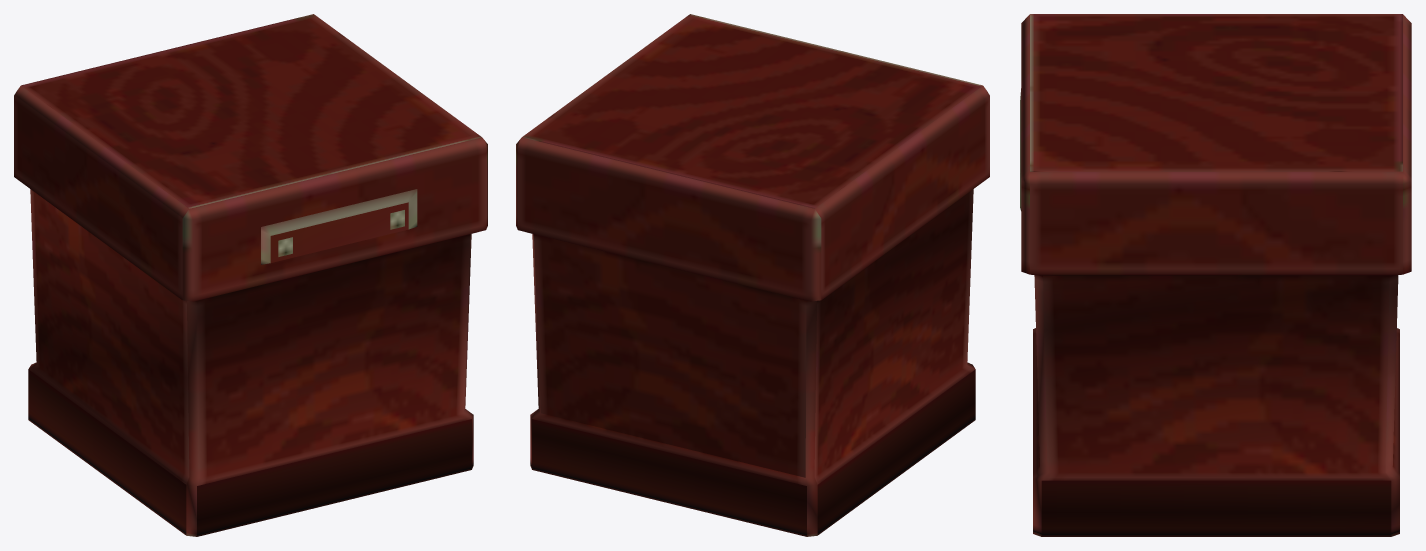
File: int_obj_fossilbaseS.dae
3 views of the same model, side by side, from view 1: azimuth 30°, elevation 25°; view 2: azimuth 150°, elevation 25°; view 3: azimuth 270°, elevation 25° (orthographic). The views are drawn at different scales.
Visible parts, largest first — view 1: int_obj_fossilbaseS; view 2: int_obj_fossilbaseS; view 3: int_obj_fossilbaseS.
Part boxes in pixels (left/top/right/bottom): int_obj_fossilbaseS: left=14, top=14, right=487, bottom=536; int_obj_fossilbaseS: left=516, top=14, right=989, bottom=536; int_obj_fossilbaseS: left=1020, top=14, right=1411, bottom=536.
Size of the model in its own units: 27 by 28 by 27.2.
Materials: 1 (1 with a texture image).
